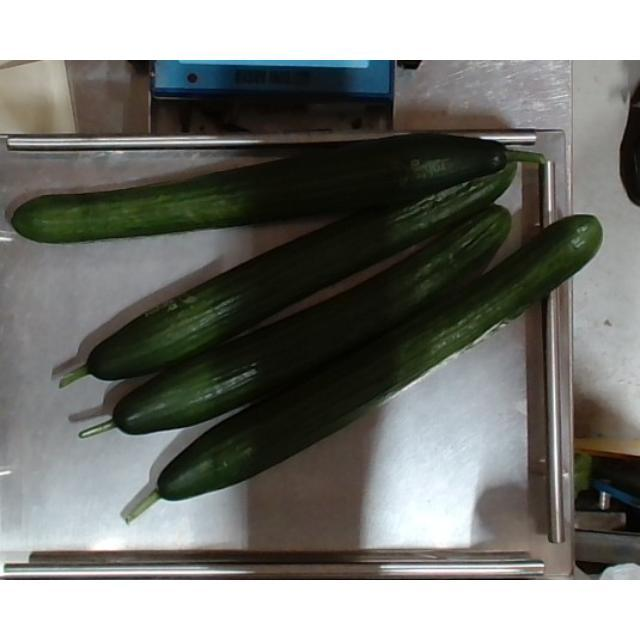cucumber: (126, 214, 608, 524), (58, 150, 518, 390), (80, 205, 512, 440), (11, 137, 546, 243)
